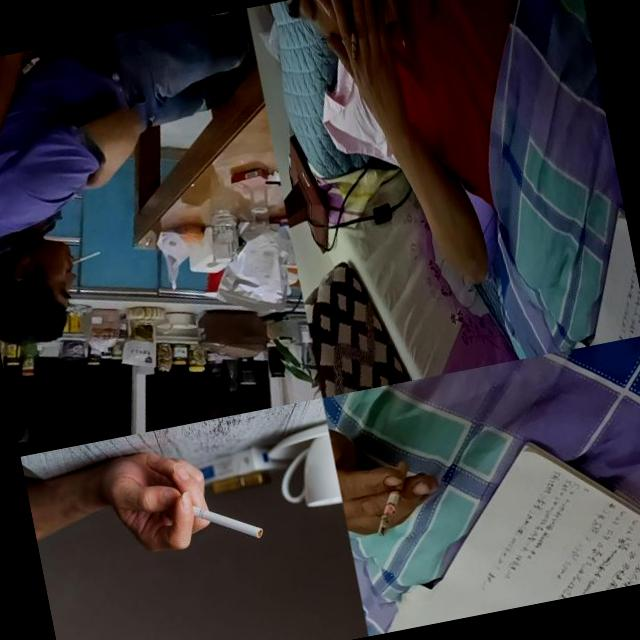cigarette: (178, 492, 268, 554), (366, 461, 420, 537), (346, 18, 362, 64), (71, 250, 102, 264)
